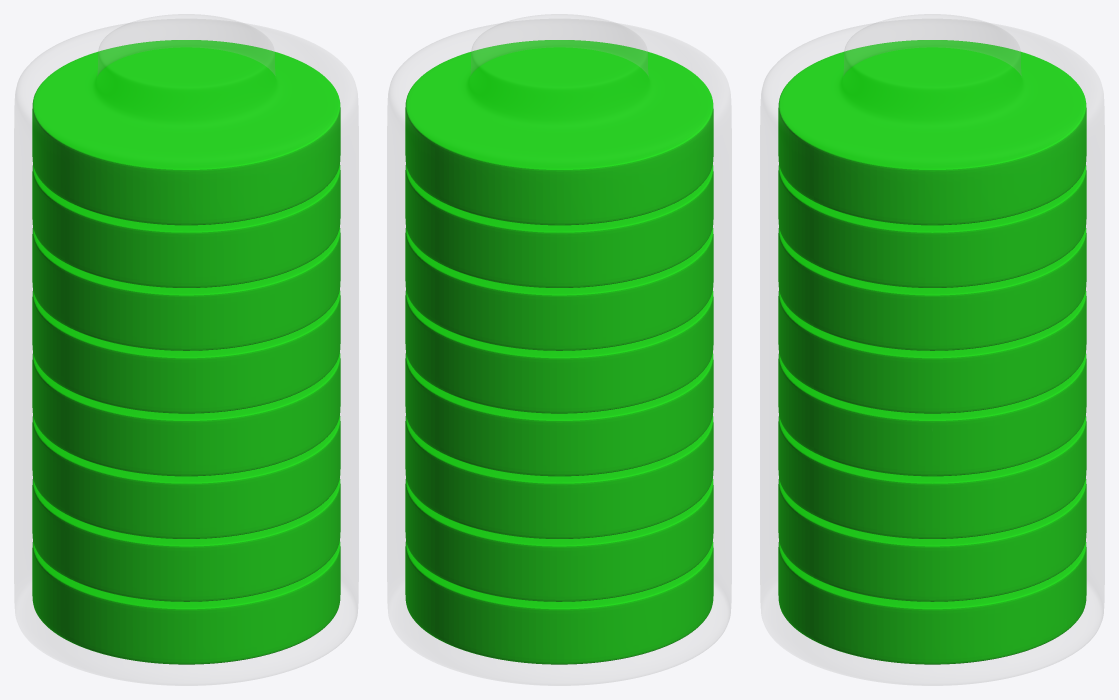
The model's file is glass_battery.glb.
The picture shows the model from 3 angles, left to right: view 1: azimuth 30°, elevation 25°; view 2: azimuth 150°, elevation 25°; view 3: azimuth 270°, elevation 25°; orthographic projection.
Parts seen in each view (by area): view 1: Cylinder.001, Cylinder; view 2: Cylinder.001, Cylinder; view 3: Cylinder.001, Cylinder.
Part boxes in pixels (x1=…): Cylinder.001: x1=32, y1=40, x2=340, y2=664; Cylinder: x1=14, y1=14, x2=358, y2=685; Cylinder.001: x1=405, y1=40, x2=713, y2=664; Cylinder: x1=387, y1=14, x2=731, y2=685; Cylinder.001: x1=778, y1=40, x2=1086, y2=664; Cylinder: x1=760, y1=14, x2=1104, y2=685.
Size of the model in its own units: 1.99 by 3.6 by 1.99.
